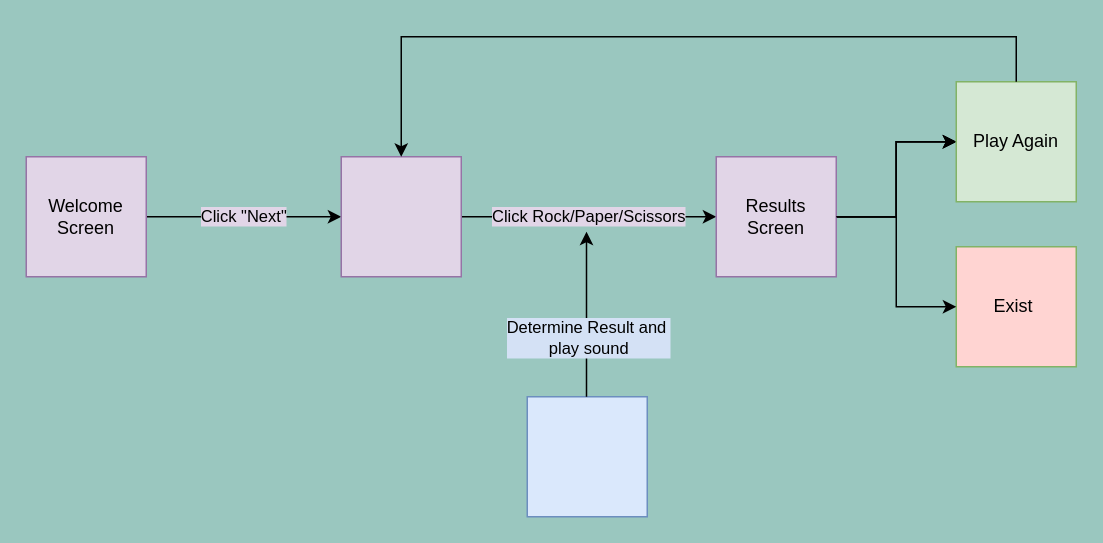
Some shapes in this 1103 by 543 pixel diagram are drawn without their labels. The shapes that lost their labels are listed below. From the top down, each one's box as (x1, y1, x2, y2) in pixels, then its label:
(340, 155, 461, 277): Choice Screen
(526, 395, 647, 517): Game Logic
